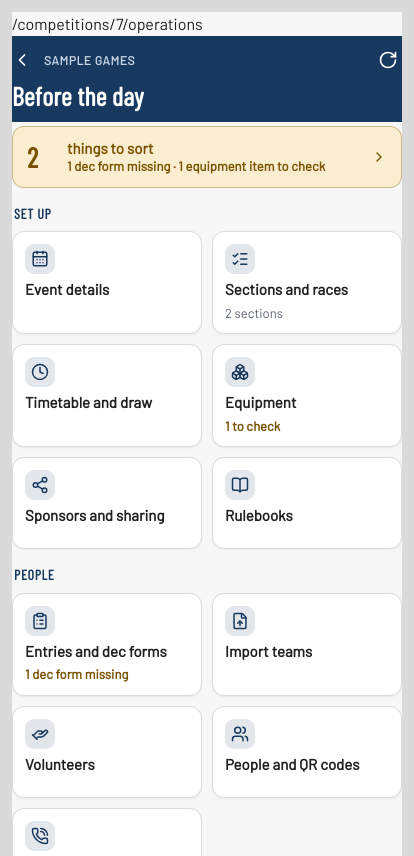
Test case: OperationsPage › keeps the last known checks and shows Try again when a refresh fails
Expected: the button "things to sort" is shown, [12, 126, 402, 188]
Click the button named "Recheck".
click(384, 60)  # box [366, 38, 402, 82]
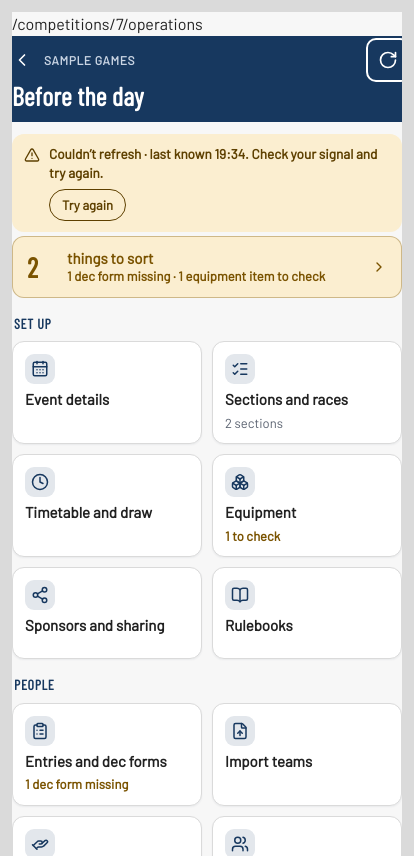
Expected: the button "things to sort" is shown, [12, 236, 402, 298]
Expected: the text "Couldn’t refresh · last known" is shown, [49, 145, 377, 181]
Click the button "Try again".
click(88, 205)  # box [49, 189, 126, 221]
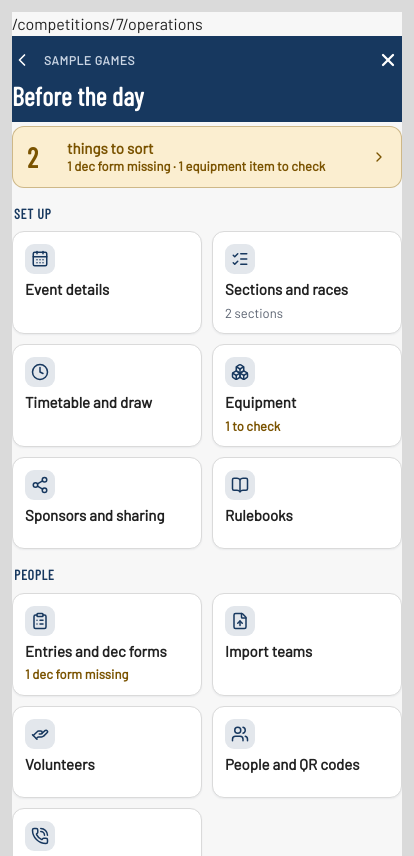
Expected: the text "Couldn’t refresh · last known" is gone
